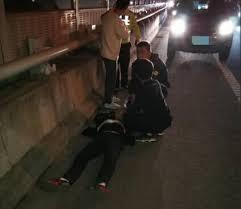Fall-Detected: (37, 100, 131, 192)
